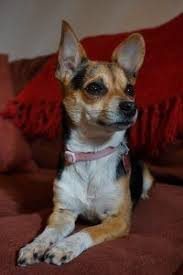chihuahua: (24, 10, 169, 266)
